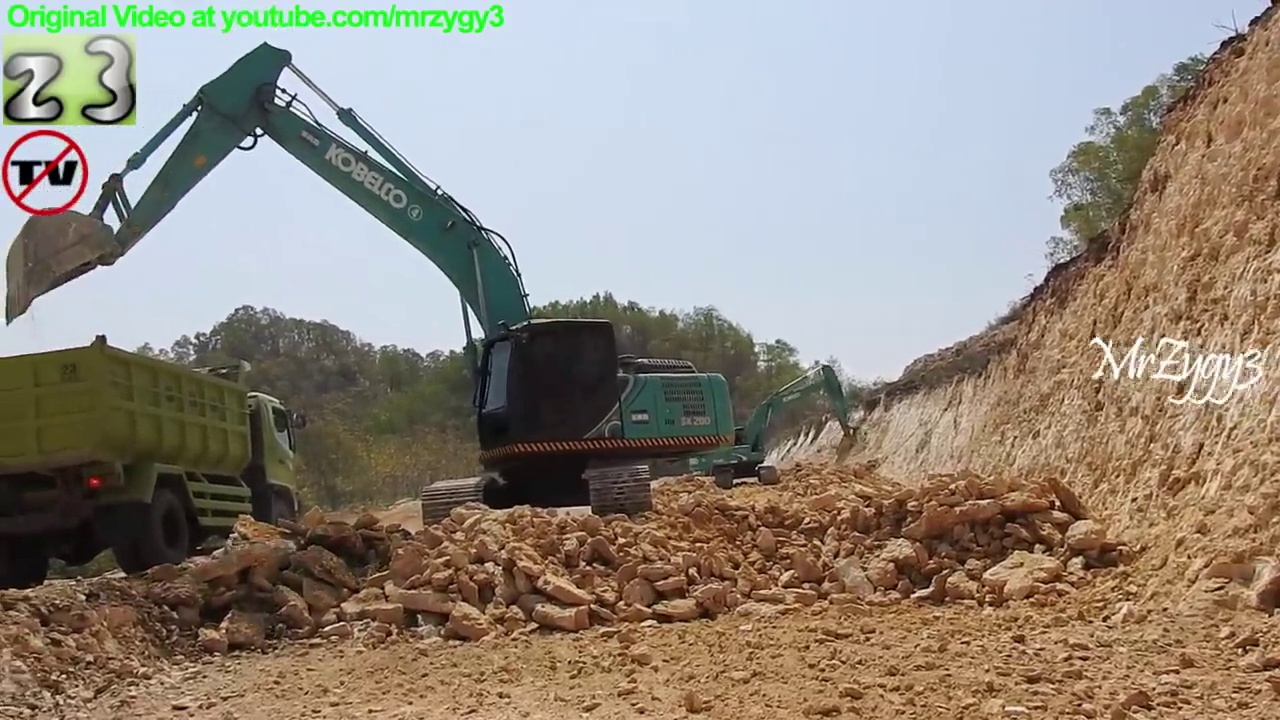excavator: (2, 37, 741, 543), (681, 357, 862, 492)
truck: (1, 330, 316, 600)
